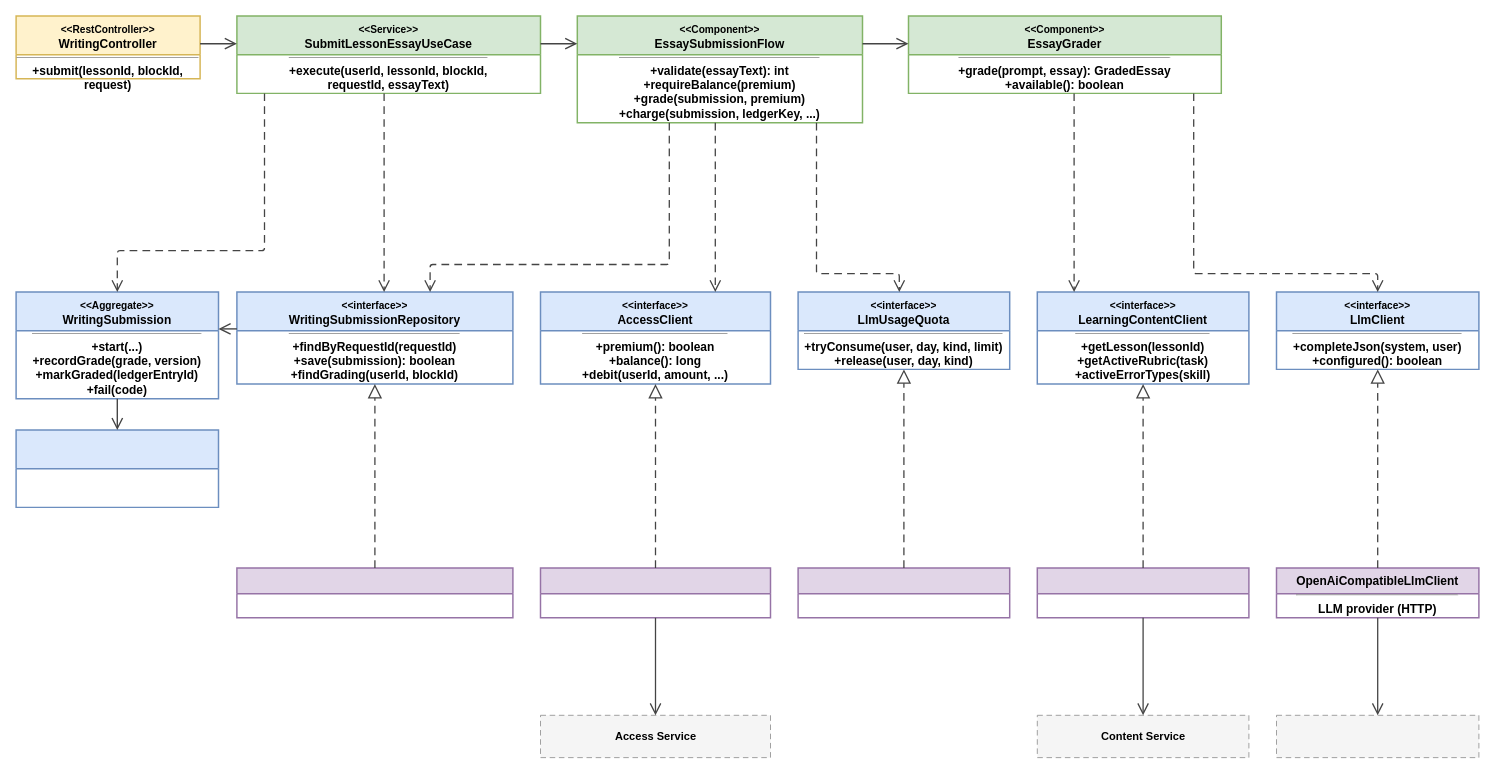
The diagram is 1496 pixels wide and 775 high, and some of its shapes have lost their labels. The shapes that lost their labels are listed below. From the top down, each one's centre as x and y in pixels, then its label:
At (x=117, y=468): "<<enum>> WritingSubmissionStatus GRADING, PAYMENT_PENDING, GRADED, FAILED, ...".
At (x=374, y=592): "JdbcWritingSubmissionRepository learning_db (JDBC)".
At (x=655, y=592): "RestAccessClient Access Service (HTTP)".
At (x=903, y=592): "JdbcLlmUsageQuota learning_db (JDBC)".
At (x=1142, y=592): "RestLearningContentClient Content Service (HTTP)".
At (x=1377, y=736): "LLM provider (OpenAI compatible)".
